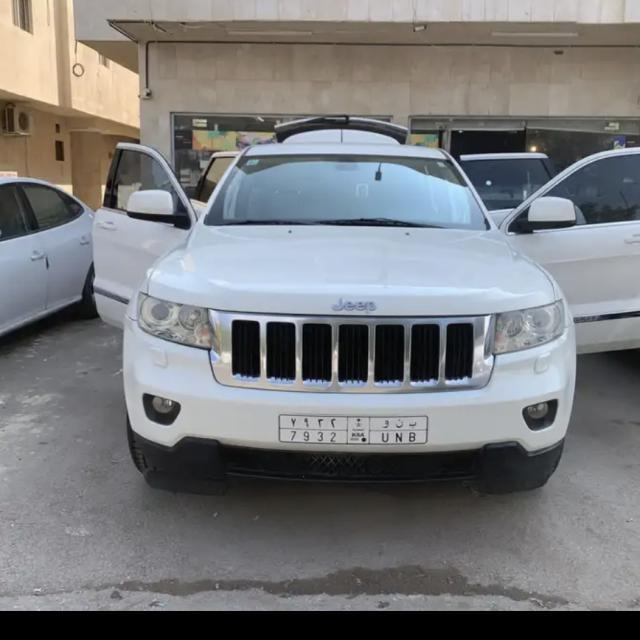license_plate: (277, 412, 429, 446)
